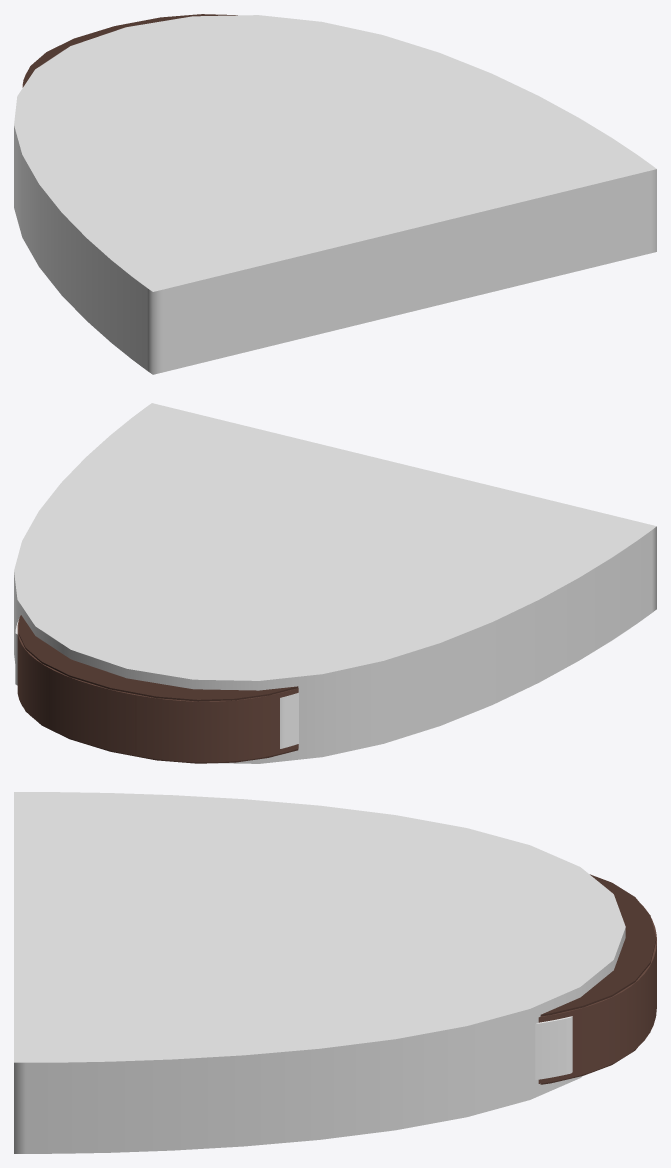
Rendered from emoji_u1f470_1f3fd_200d_2642.glb.
3 views of the same model, one above another, from view 1: azimuth 30°, elevation 25°; view 2: azimuth 150°, elevation 25°; view 3: azimuth 270°, elevation 25° (orthographic). The views are drawn at different scales.
Visible parts, largest first — view 1: emoji_u1f470_1f3fd_200d_2642; view 2: emoji_u1f470_1f3fd_200d_2642; view 3: emoji_u1f470_1f3fd_200d_2642.
Boxes of the visible parts, x1=… form: emoji_u1f470_1f3fd_200d_2642: x1=14, y1=14, x2=656, y2=374; emoji_u1f470_1f3fd_200d_2642: x1=14, y1=403, x2=656, y2=763; emoji_u1f470_1f3fd_200d_2642: x1=14, y1=792, x2=656, y2=1153.
Bounding box in the file's own units: 0.0331 × 0.0052 × 0.0333.
